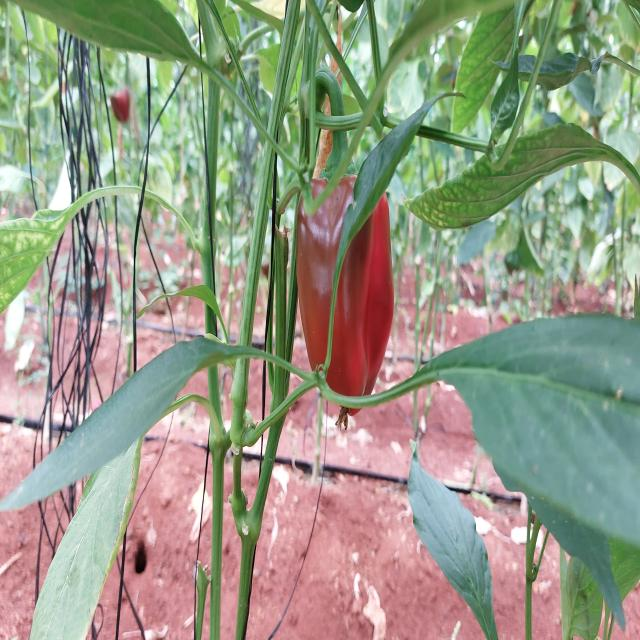Red-Ready-to-Harvest: (294, 162, 402, 403)
